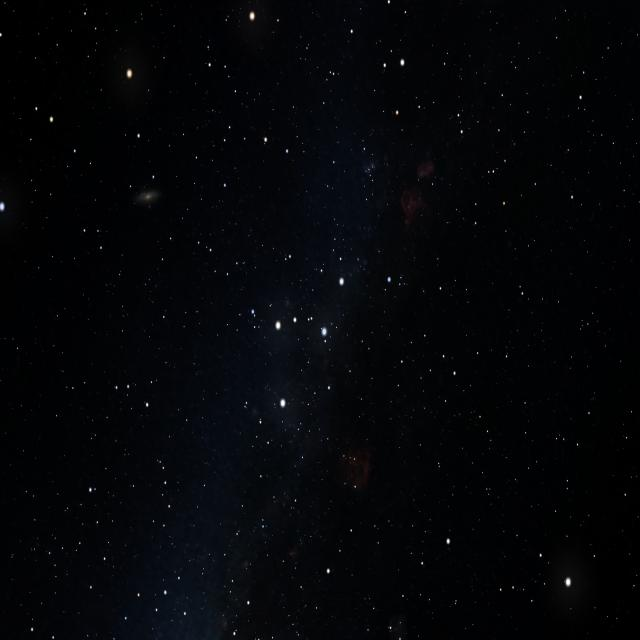Cassiopeia: (262, 255, 395, 423)
